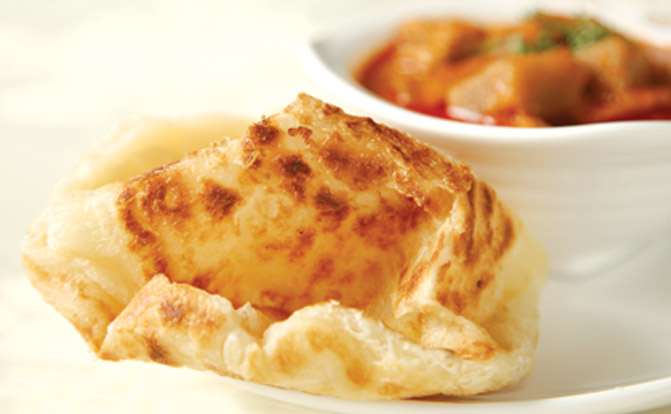Prata: (81, 119, 556, 408)
